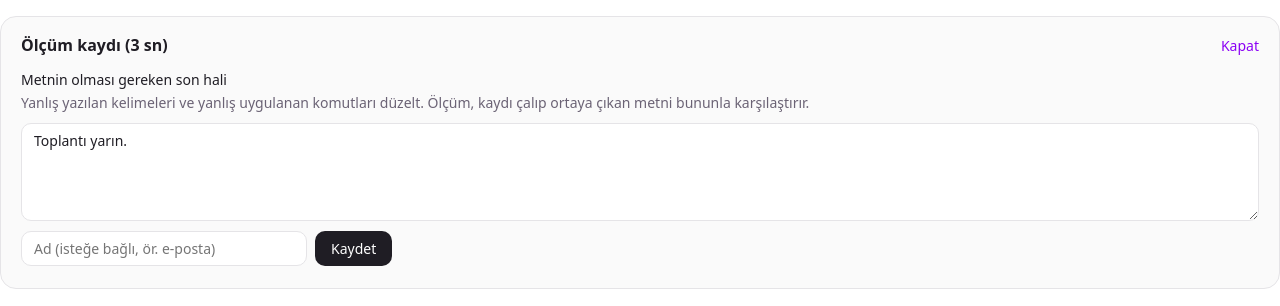
Test: ölçüm kaydı kartı › düzeltilen metni ve kaydı geliştirme sunucusuna gönderir
Replace the text in the text box labelled "Metnin olması gereken son hali" with "Toplantı yarın saat onda." at (640, 172), box 21,123 -> 1259,221
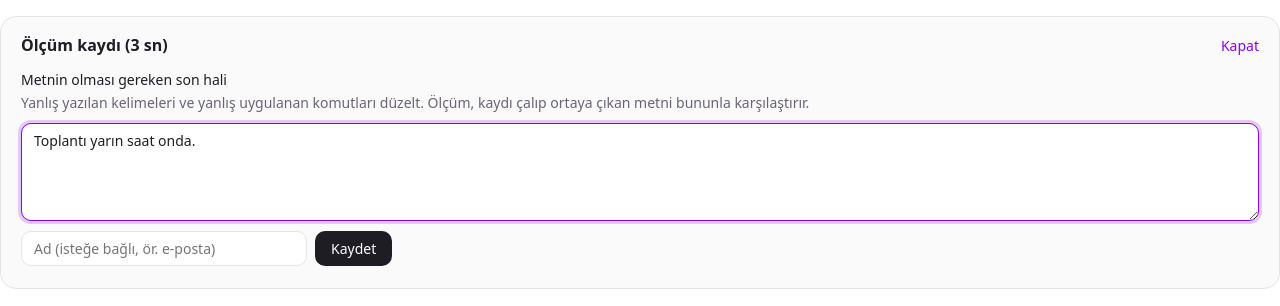
Type "e-posta" into the field named "Kaydın adı" at (164, 248), box 21,231 -> 307,266
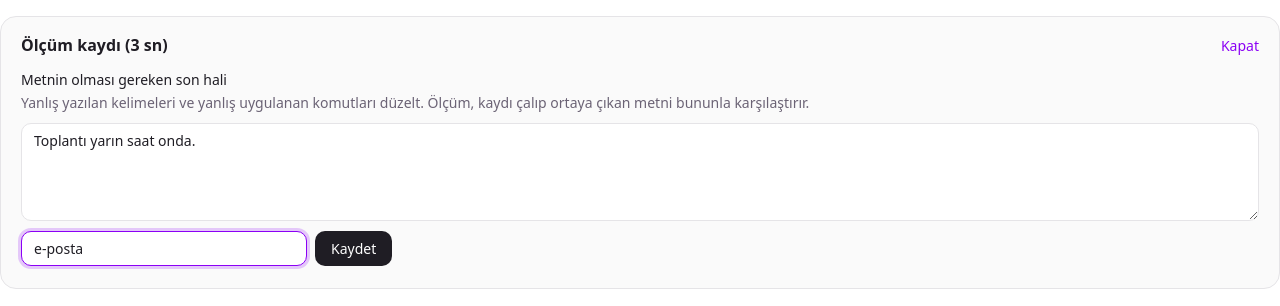
Click the button "Kaydet" at (354, 248), box 315,231 -> 392,266
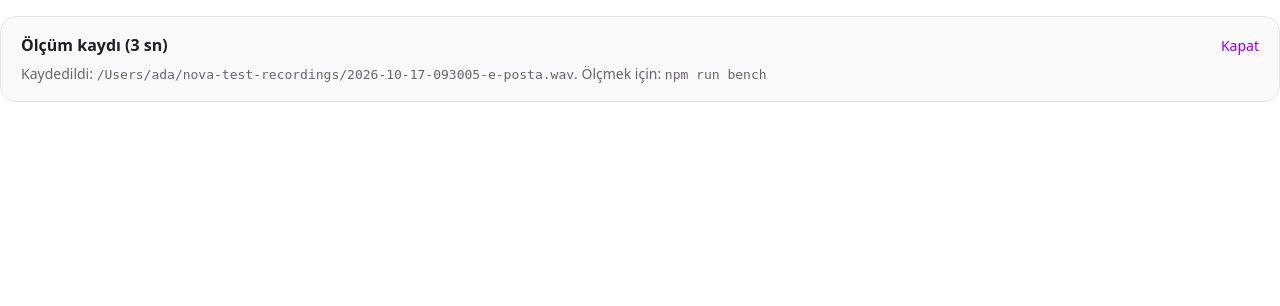
Expected: the text "/Users/ada/nova-test-recordings/2026-10-17-093005-e-posta.wav" is shown, 97,67 -> 574,82
